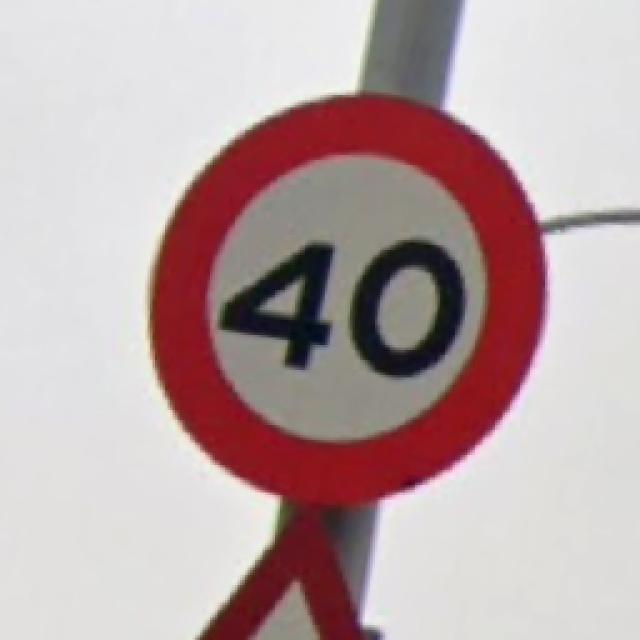Speed Limit -40-: (155, 95, 545, 502)
